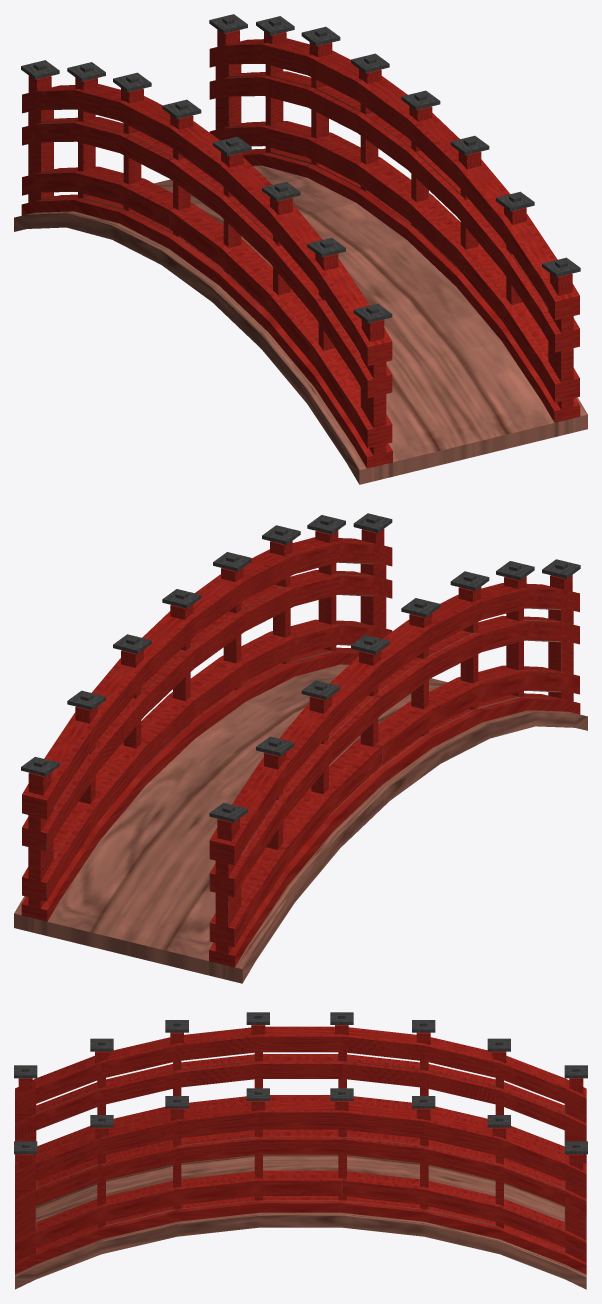
The model's file is japanbrug.fbx.
3 renders of one model, top to bottom at view 1: azimuth 30°, elevation 25°; view 2: azimuth 150°, elevation 25°; view 3: azimuth 270°, elevation 25°, orthographic. The views are drawn at different scales.
Parts seen in each view (by area): view 1: Cube.001; view 2: Cube.001; view 3: Cube.001.
Boxes of the visible parts, left/top/right/bottom form: Cube.001: left=14, top=14, right=587, bottom=484; Cube.001: left=14, top=513, right=587, bottom=983; Cube.001: left=14, top=1012, right=587, bottom=1289.
Bounding box in the file's own units: 697 × 673 × 1833.
Materials: 9 (9 with a texture image).
